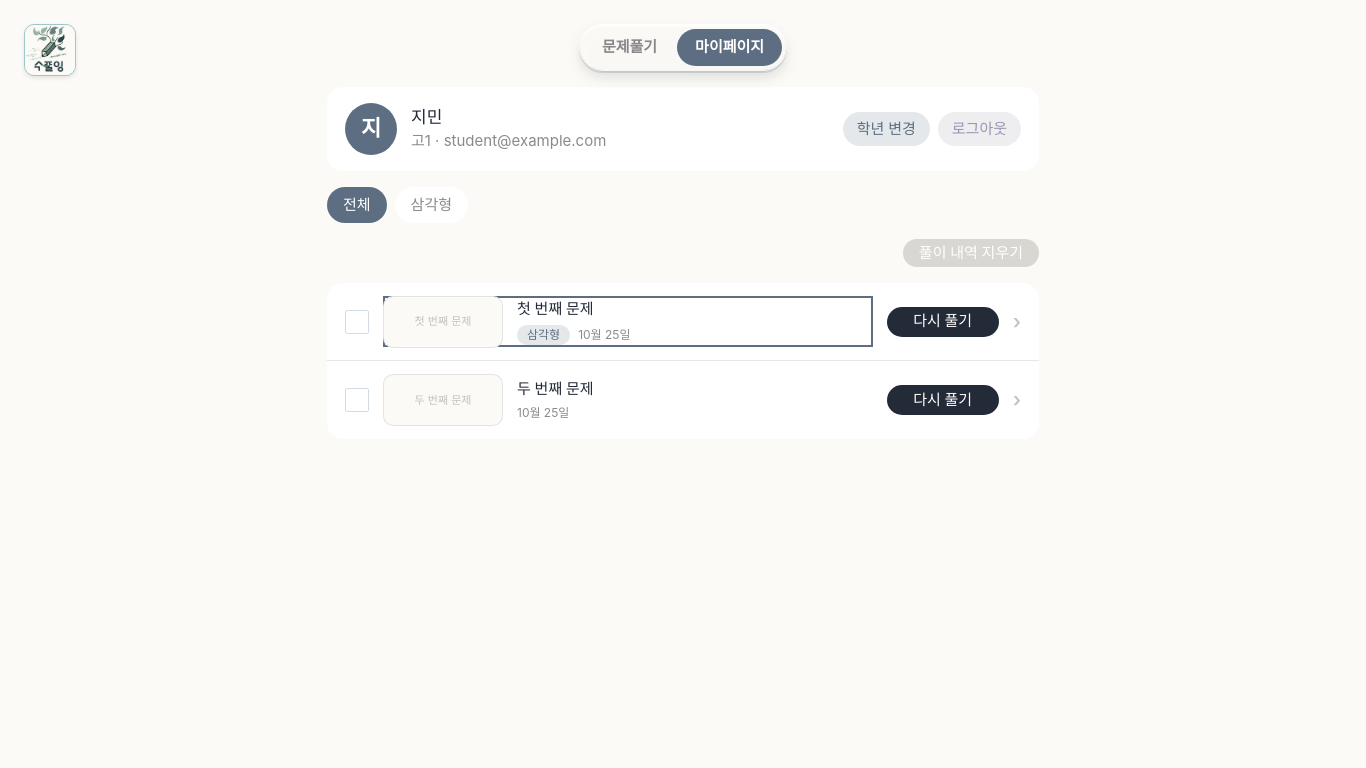
Scenario: RS8·RS11 resume 섹션 조립 › 둘 다 없으면 기존 '저장된 풀이가 없는 문제예요' 그대로
Click the button "첫 번째 문제 첫 번째 문제 삼각형 10월 25일": (443, 322) [383,296,873,347]
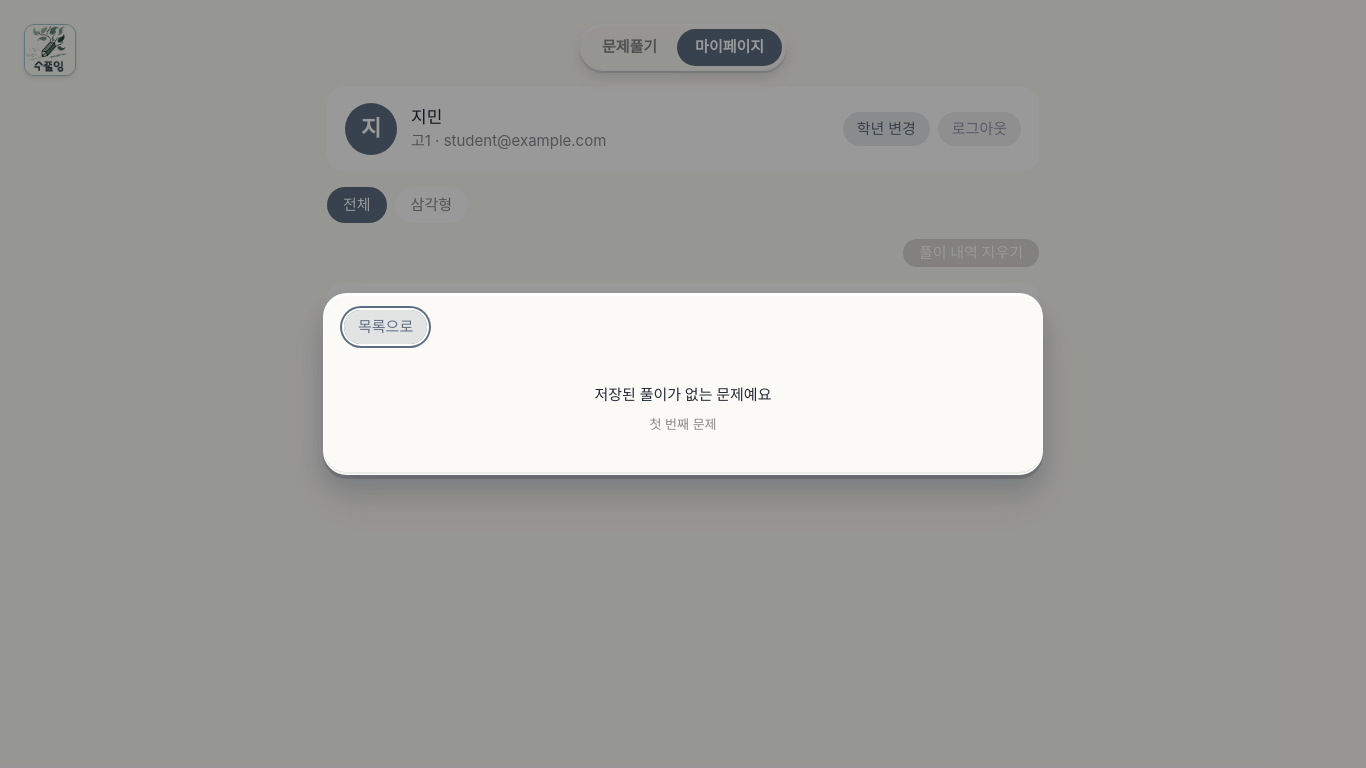
Check: the text "저장된 풀이가 없는 문제예요" is shown, box [594,384,772,406]
